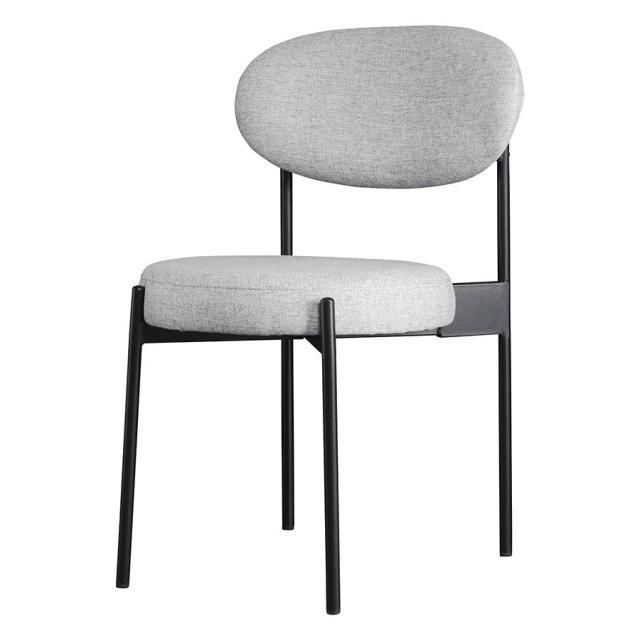chair: (112, 20, 528, 618), (124, 21, 518, 336)
